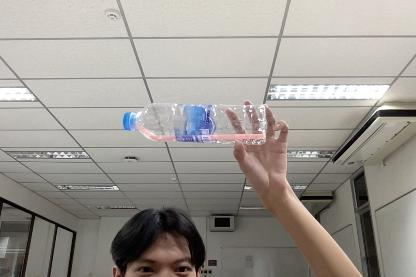Plastic Bottle: (122, 100, 270, 148)
